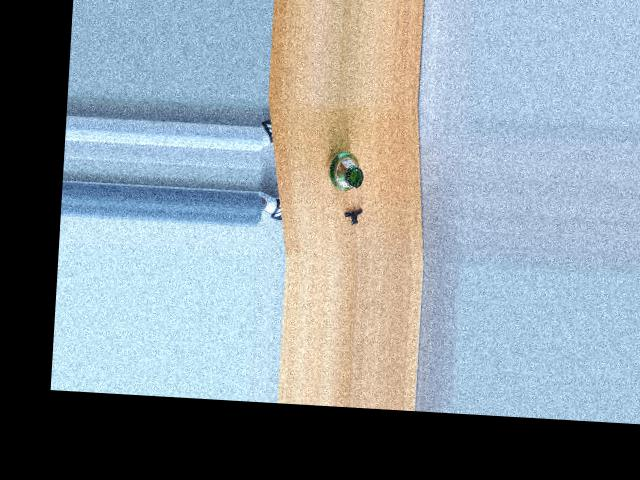beer: (324, 150, 364, 192)
